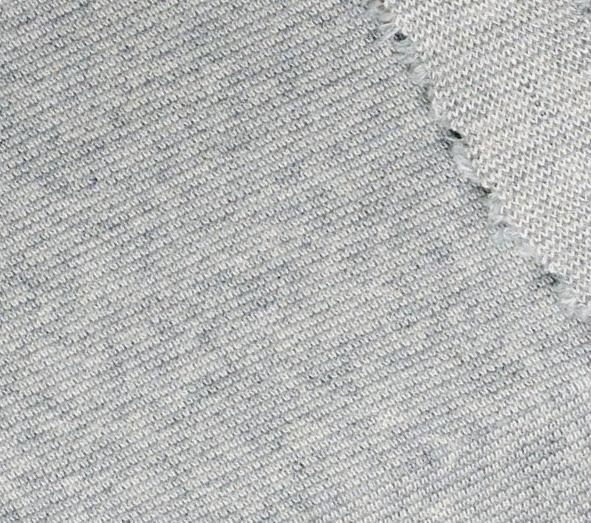slub: (355, 1, 591, 332)
